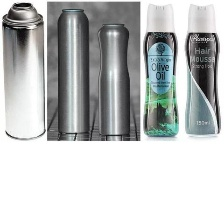aerosol_cans: (1, 0, 46, 142), (140, 1, 179, 140), (183, 2, 222, 137), (53, 5, 93, 135), (95, 20, 132, 138)
